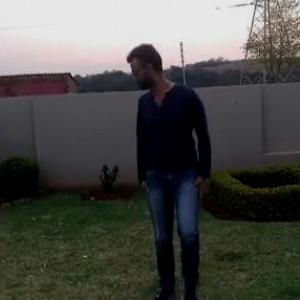follow: (129, 33, 214, 282)
